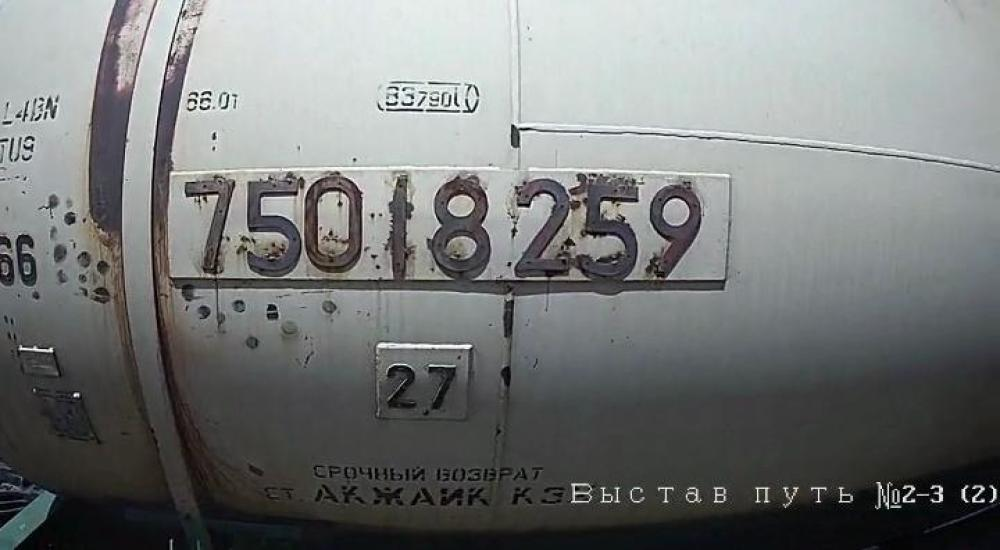Wagon-number: (169, 170, 710, 286)
